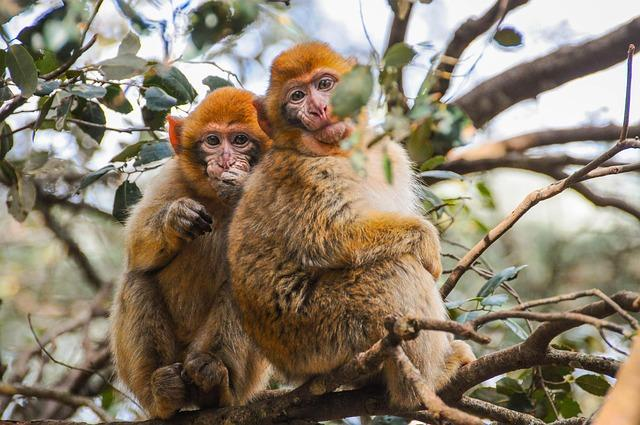Non_Gorille: (97, 42, 515, 397)
